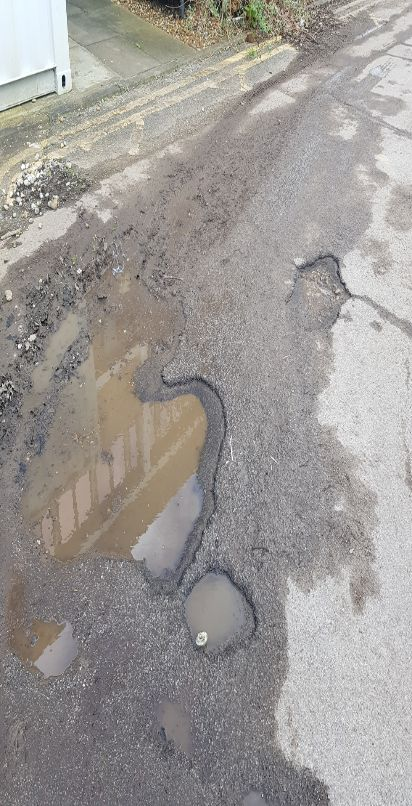pothole: (18, 263, 236, 608), (178, 565, 264, 666), (284, 250, 352, 333)
